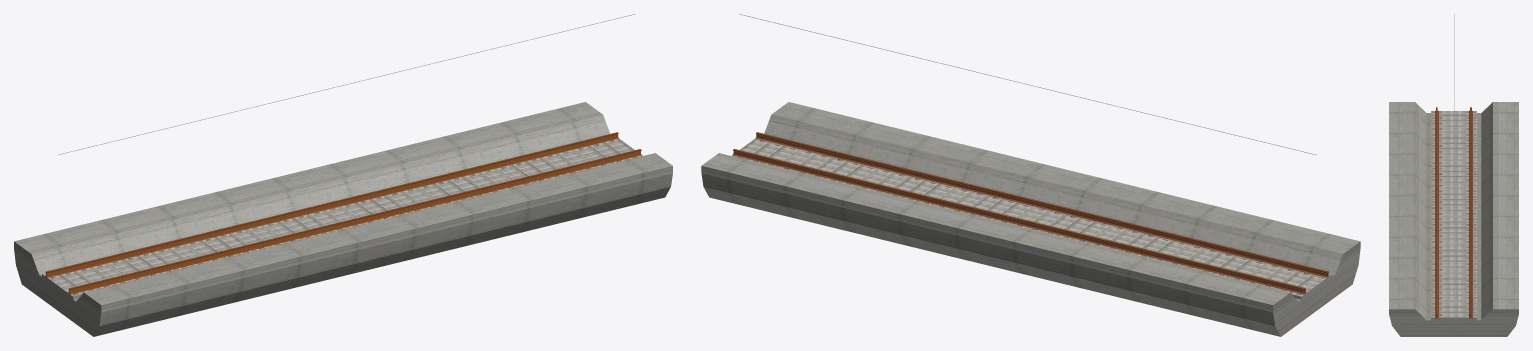
File: railway.glb
3 views of the same model, side by side, from view 1: azimuth 30°, elevation 25°; view 2: azimuth 150°, elevation 25°; view 3: azimuth 270°, elevation 25° (orthographic). The views are drawn at different scales.
Parts seen in each view (by area): view 1: object 1, object 3, object 2, Cylinder005; view 2: object 1, object 2, object 3, Cylinder005; view 3: object 1, object 2, object 3, Cylinder005.
Part boxes in pixels (x1=…): object 1: x1=14, y1=102, x2=672, y2=336; object 3: x1=68, y1=149, x2=641, y2=294; object 2: x1=45, y1=132, x2=618, y2=277; Cylinder005: x1=58, y1=14, x2=634, y2=154; object 1: x1=701, y1=102, x2=1360, y2=336; object 2: x1=732, y1=149, x2=1306, y2=294; object 3: x1=755, y1=132, x2=1329, y2=277; Cylinder005: x1=739, y1=14, x2=1316, y2=155; object 1: x1=1389, y1=102, x2=1518, y2=336; object 2: x1=1469, y1=107, x2=1472, y2=318; object 3: x1=1435, y1=107, x2=1438, y2=318; Cylinder005: x1=1454, y1=14, x2=1454, y2=223.
Size of the model in its own units: 20205 by 5208 by 5291.
Materials: 7 (6 with a texture image).
